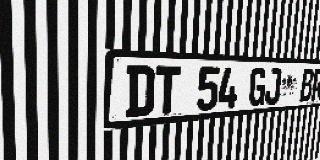4: (218, 67, 239, 109)
5: (197, 67, 220, 111)
B: (299, 69, 314, 102)
D: (125, 65, 155, 118)
G: (248, 68, 267, 107)
J: (264, 68, 282, 105)
R: (311, 69, 320, 101)
T: (154, 66, 181, 115)
